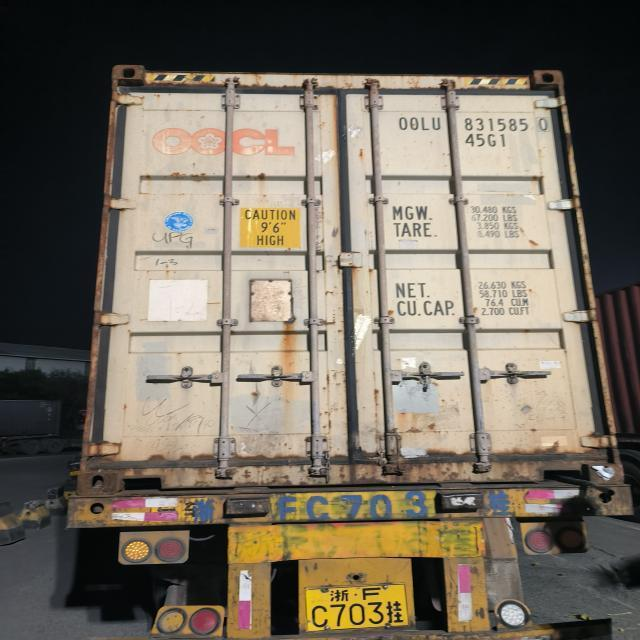ISO: (468, 134, 508, 151)
container_number: (401, 114, 554, 134)
